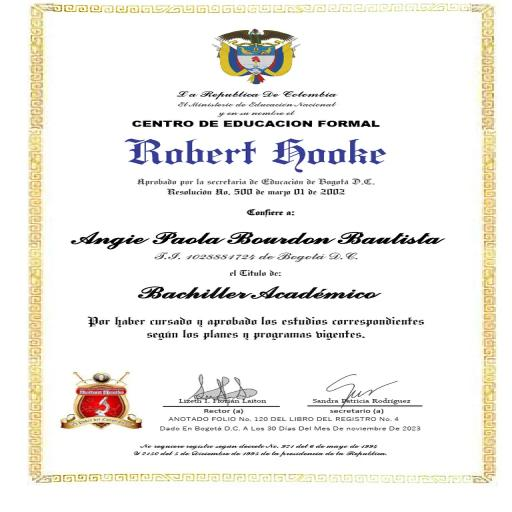bachillerato: (120, 280, 400, 309)
diploma: (30, 4, 495, 482), (42, 8, 482, 478)
escudo: (203, 24, 313, 89)
firma: (307, 369, 442, 415), (167, 366, 278, 416)
institucion: (125, 112, 390, 134)
nombre: (60, 219, 453, 254)
